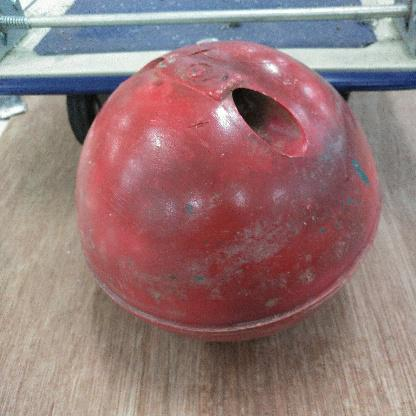red_buoy: (76, 38, 385, 342)
